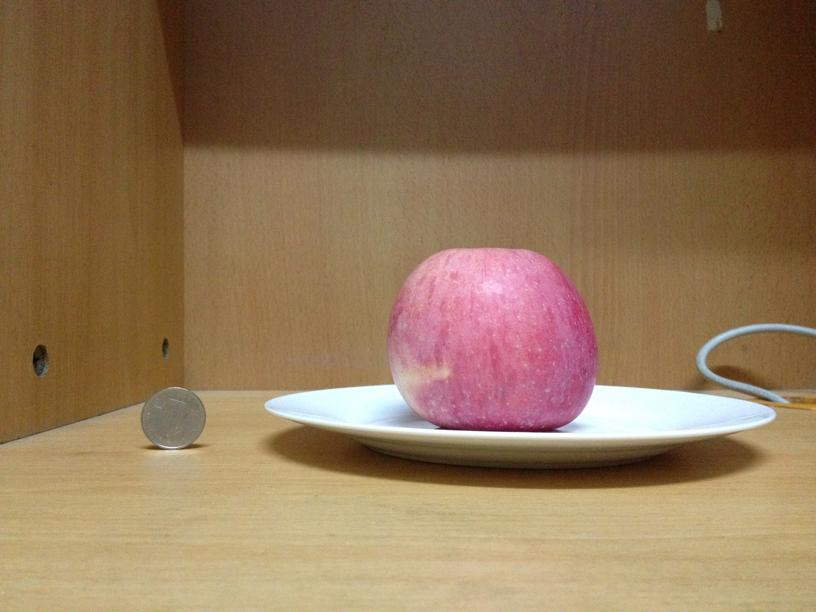apple: (384, 244, 598, 428)
coin: (139, 385, 205, 449)
